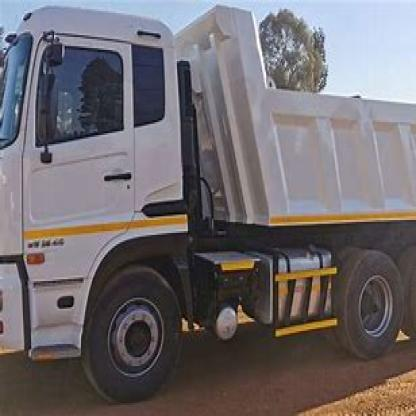dump_truck: (0, 4, 415, 401)
